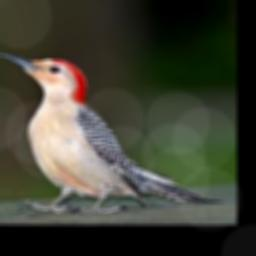Woodpecker: (0, 49, 224, 214)
